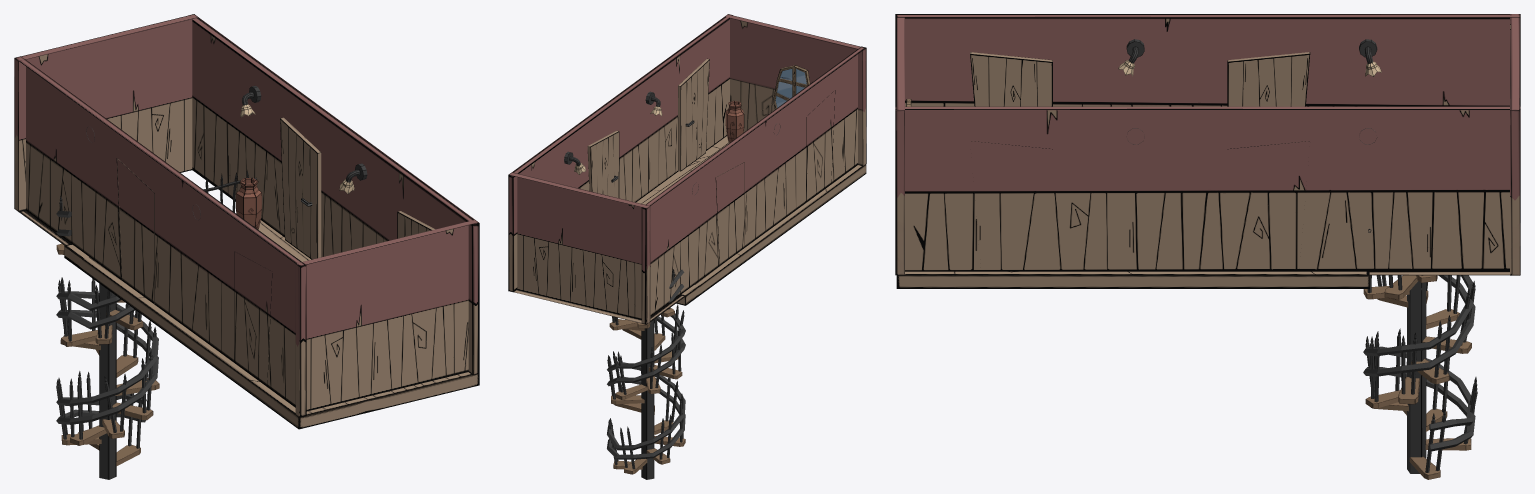
The model's file is Taverne_couloir.fbx.
The picture shows the model from 3 angles, left to right: view 1: azimuth 30°, elevation 25°; view 2: azimuth 150°, elevation 25°; view 3: azimuth 270°, elevation 25°; orthographic projection. The views are drawn at different scales.
Parts seen in each view (by area): view 1: couloir_mur_R, couloir_mur_L, couloir_mur_fenetre, couloir_mur_escalier, Escalier1, couloir_sol, porte_chambre04, pot05, porte_chambre03; view 2: couloir_mur_R, couloir_mur_escalier, couloir_mur_L, Escalier1, couloir_mur_fenetre, couloir_sol, porte_chambre03, porte_chambre04, fenetre09, pot03; view 3: couloir_mur_L, couloir_mur_R, Escalier1, couloir_sol, porte_chambre01, porte_chambre02, couloir_mur_escalier, couloir_mur_fenetre.
Part boxes in pixels (x1=…): couloir_mur_R: x1=15, y1=56, x2=306, y2=417; couloir_mur_L: x1=188, y1=14, x2=479, y2=375; couloir_mur_fenetre: x1=295, y1=220, x2=478, y2=416; couloir_mur_escalier: x1=14, y1=14, x2=198, y2=212; Escalier1: x1=56, y1=195, x2=159, y2=479; couloir_sol: x1=64, y1=220, x2=479, y2=429; porte_chambre04: x1=280, y1=117, x2=321, y2=259; pot05: x1=236, y1=177, x2=261, y2=229; porte_chambre03: x1=397, y1=211, x2=435, y2=238; couloir_mur_R: x1=641, y1=46, x2=866, y2=324; couloir_mur_escalier: x1=508, y1=172, x2=650, y2=324; couloir_mur_L: x1=508, y1=14, x2=732, y2=292; Escalier1: x1=607, y1=269, x2=685, y2=479; couloir_mur_fenetre: x1=725, y1=14, x2=866, y2=165; couloir_sol: x1=636, y1=136, x2=866, y2=305; porte_chambre03: x1=678, y1=58, x2=709, y2=171; porte_chambre04: x1=587, y1=130, x2=619, y2=197; fenetre09: x1=773, y1=65, x2=810, y2=109; pot03: x1=725, y1=101, x2=744, y2=142; couloir_mur_L: x1=895, y1=106, x2=1520, y2=275; couloir_mur_R: x1=895, y1=14, x2=1520, y2=106; Escalier1: x1=1363, y1=275, x2=1477, y2=479; couloir_sol: x1=896, y1=271, x2=1369, y2=288; porte_chambre01: x1=1227, y1=52, x2=1310, y2=106; porte_chambre02: x1=970, y1=52, x2=1052, y2=106; couloir_mur_escalier: x1=1510, y1=14, x2=1520, y2=275; couloir_mur_fenetre: x1=896, y1=17, x2=904, y2=274.
Bounding box in the file's own units: 398 × 831 × 1091.
